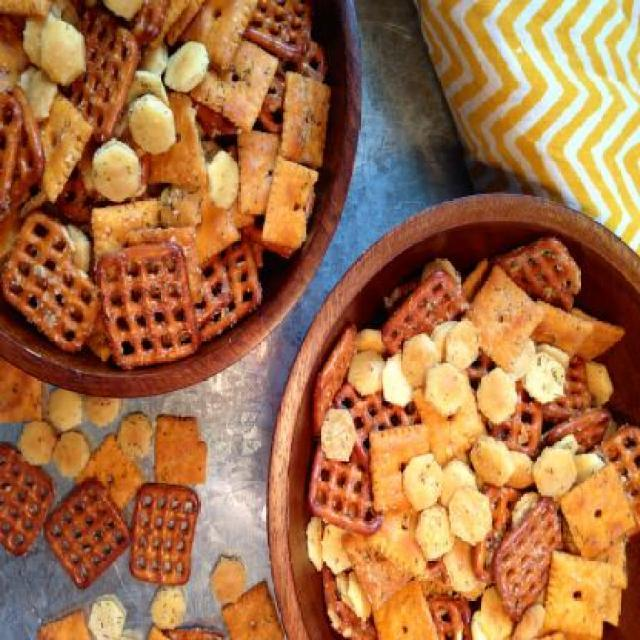Salatini packaged: (3, 1, 340, 348), (327, 264, 630, 640)
